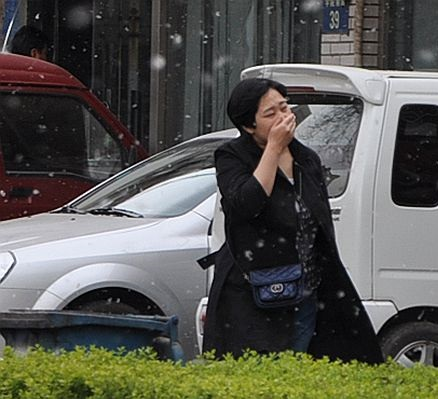face: (257, 88, 293, 142)
